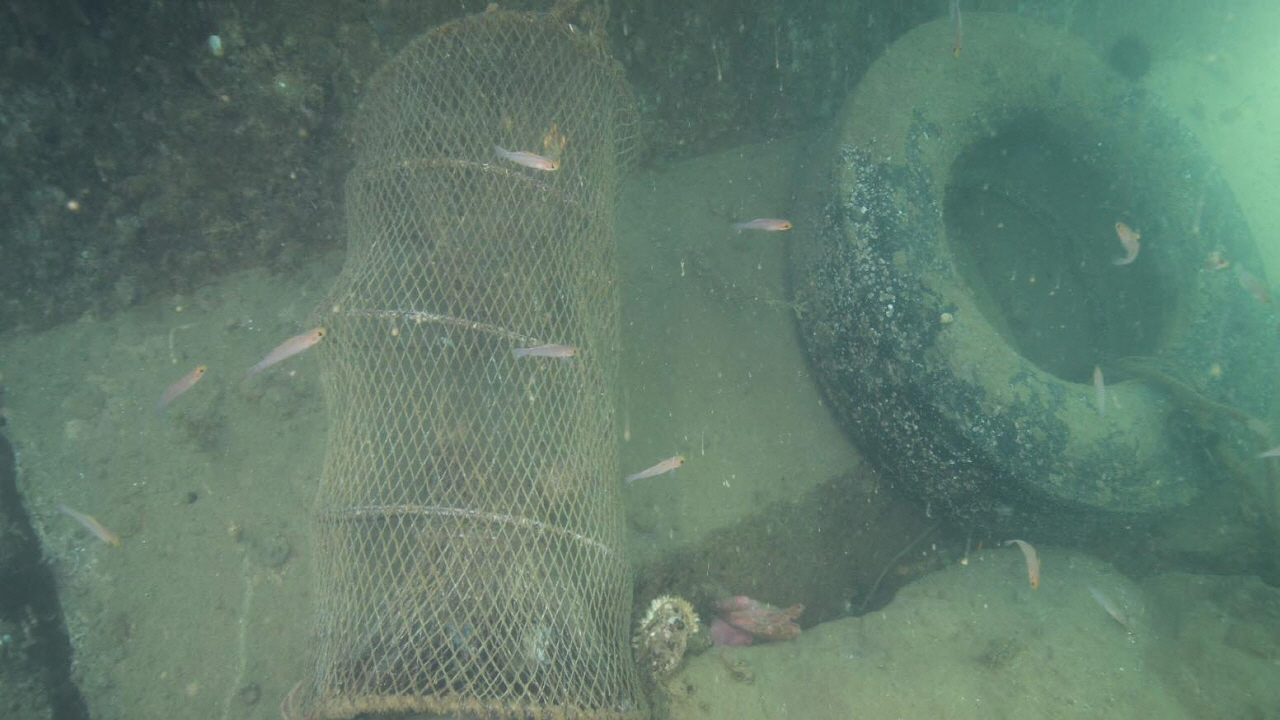spring fish trap: (309, 8, 644, 720)
tire: (779, 8, 1266, 549)
